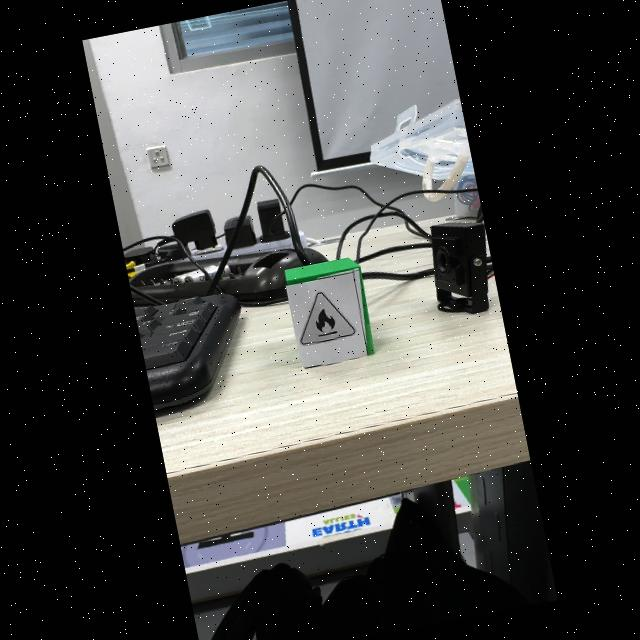Fire: (300, 292, 354, 345)
